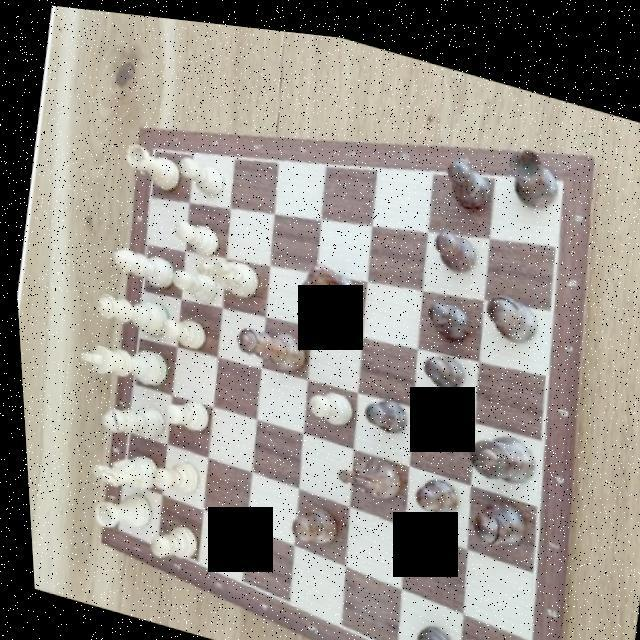chess-table-corners: (552, 155, 570, 176), (146, 140, 158, 148), (106, 523, 114, 531)
